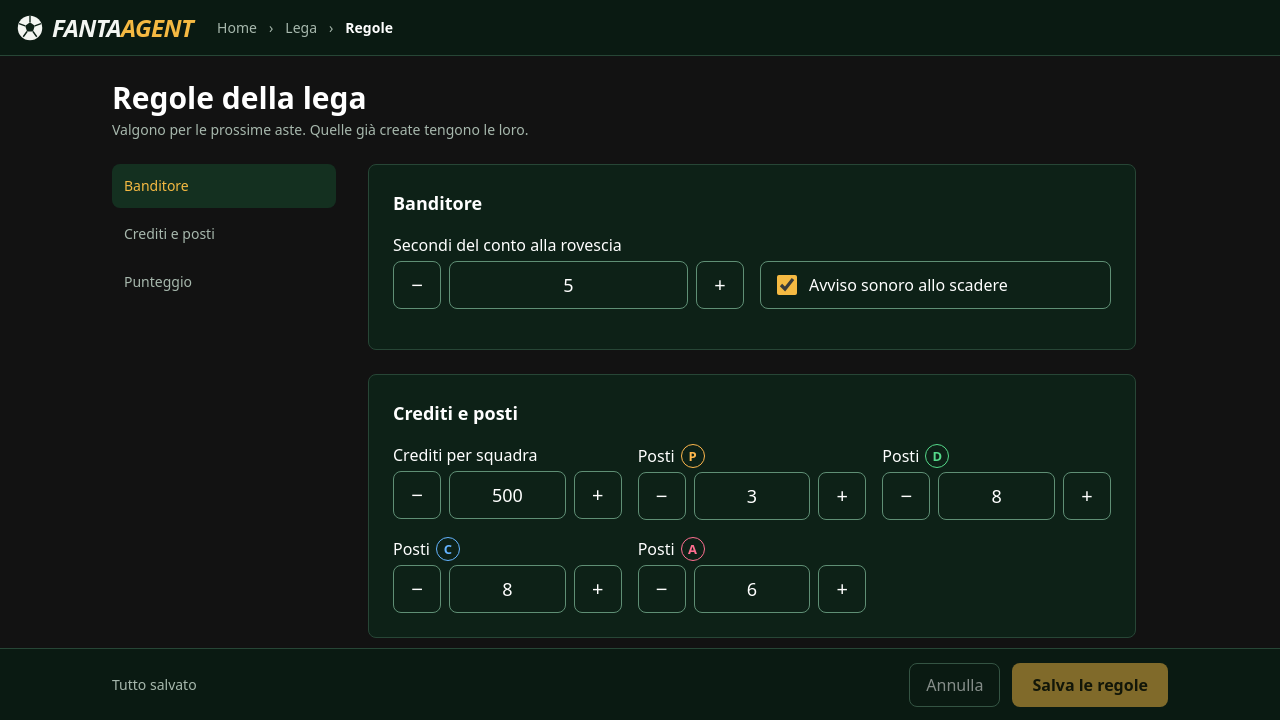
it: LeagueRulesRoute › il salvataggio manda banditore, punteggio e regole, e resta qui
Step 1. Click the button named "Un secondo in più" → (720, 285), box [696,261,744,309]
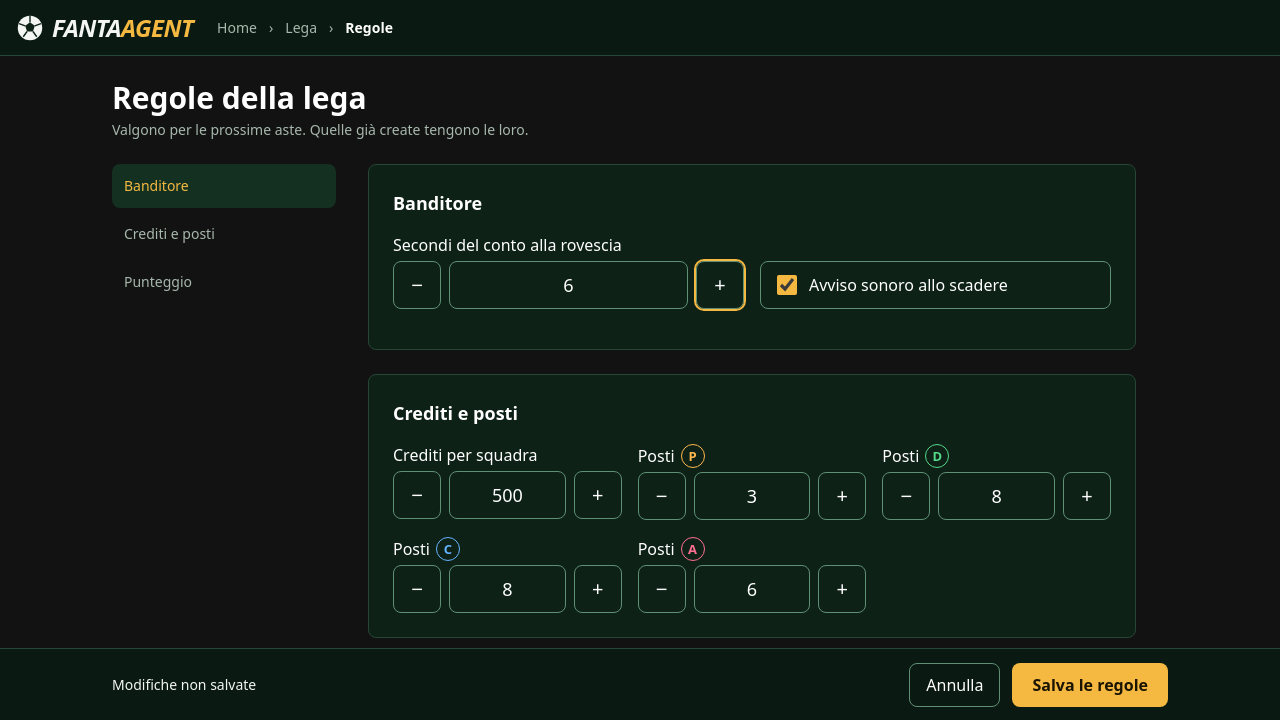
Step 2. Click the button "Salva le regole" → (1090, 684), box [1012,662,1168,706]
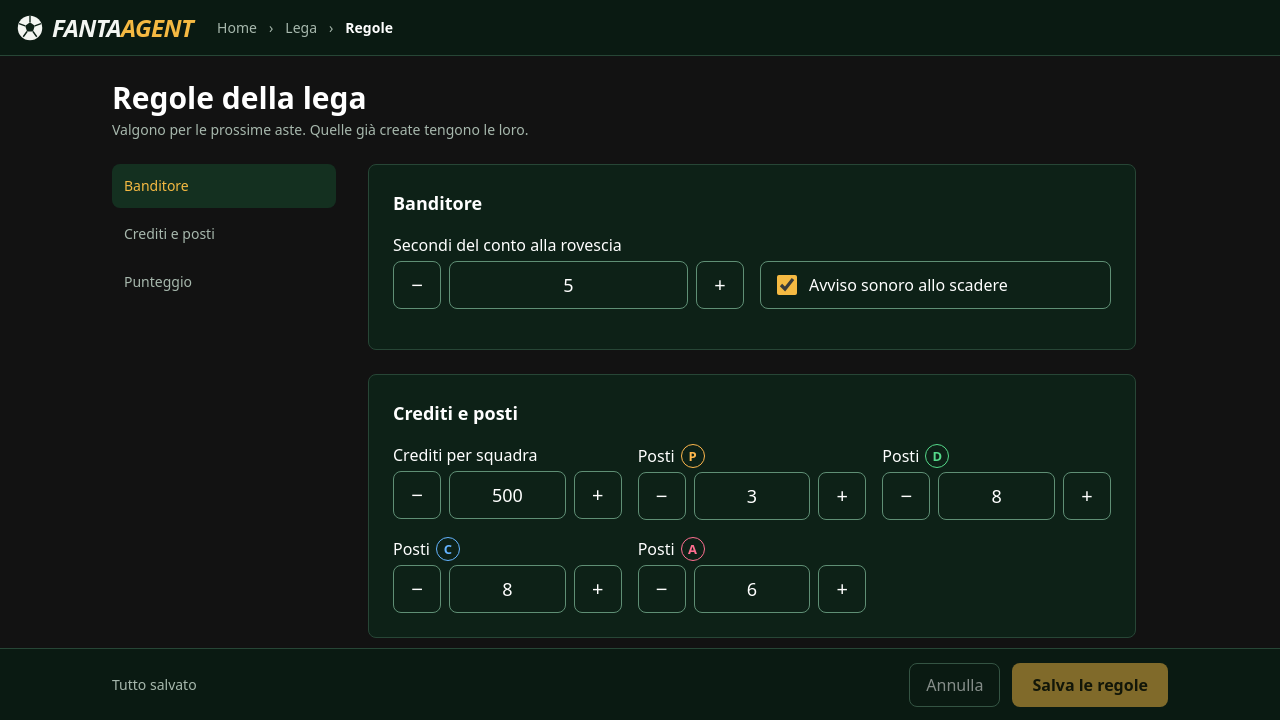
Expected: the heading "Regole della lega" is shown, [112,77,367,118]
Now the text "Tutto salvato" is shown, box [112,675,197,694]
